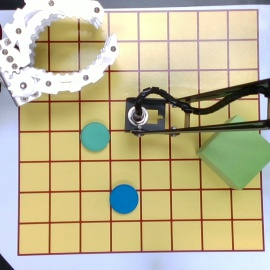blue: (109, 185, 140, 214)
green: (81, 122, 109, 152)
